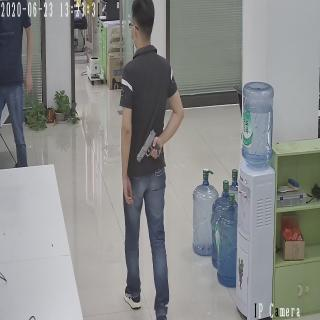gun: (136, 125, 165, 161)
